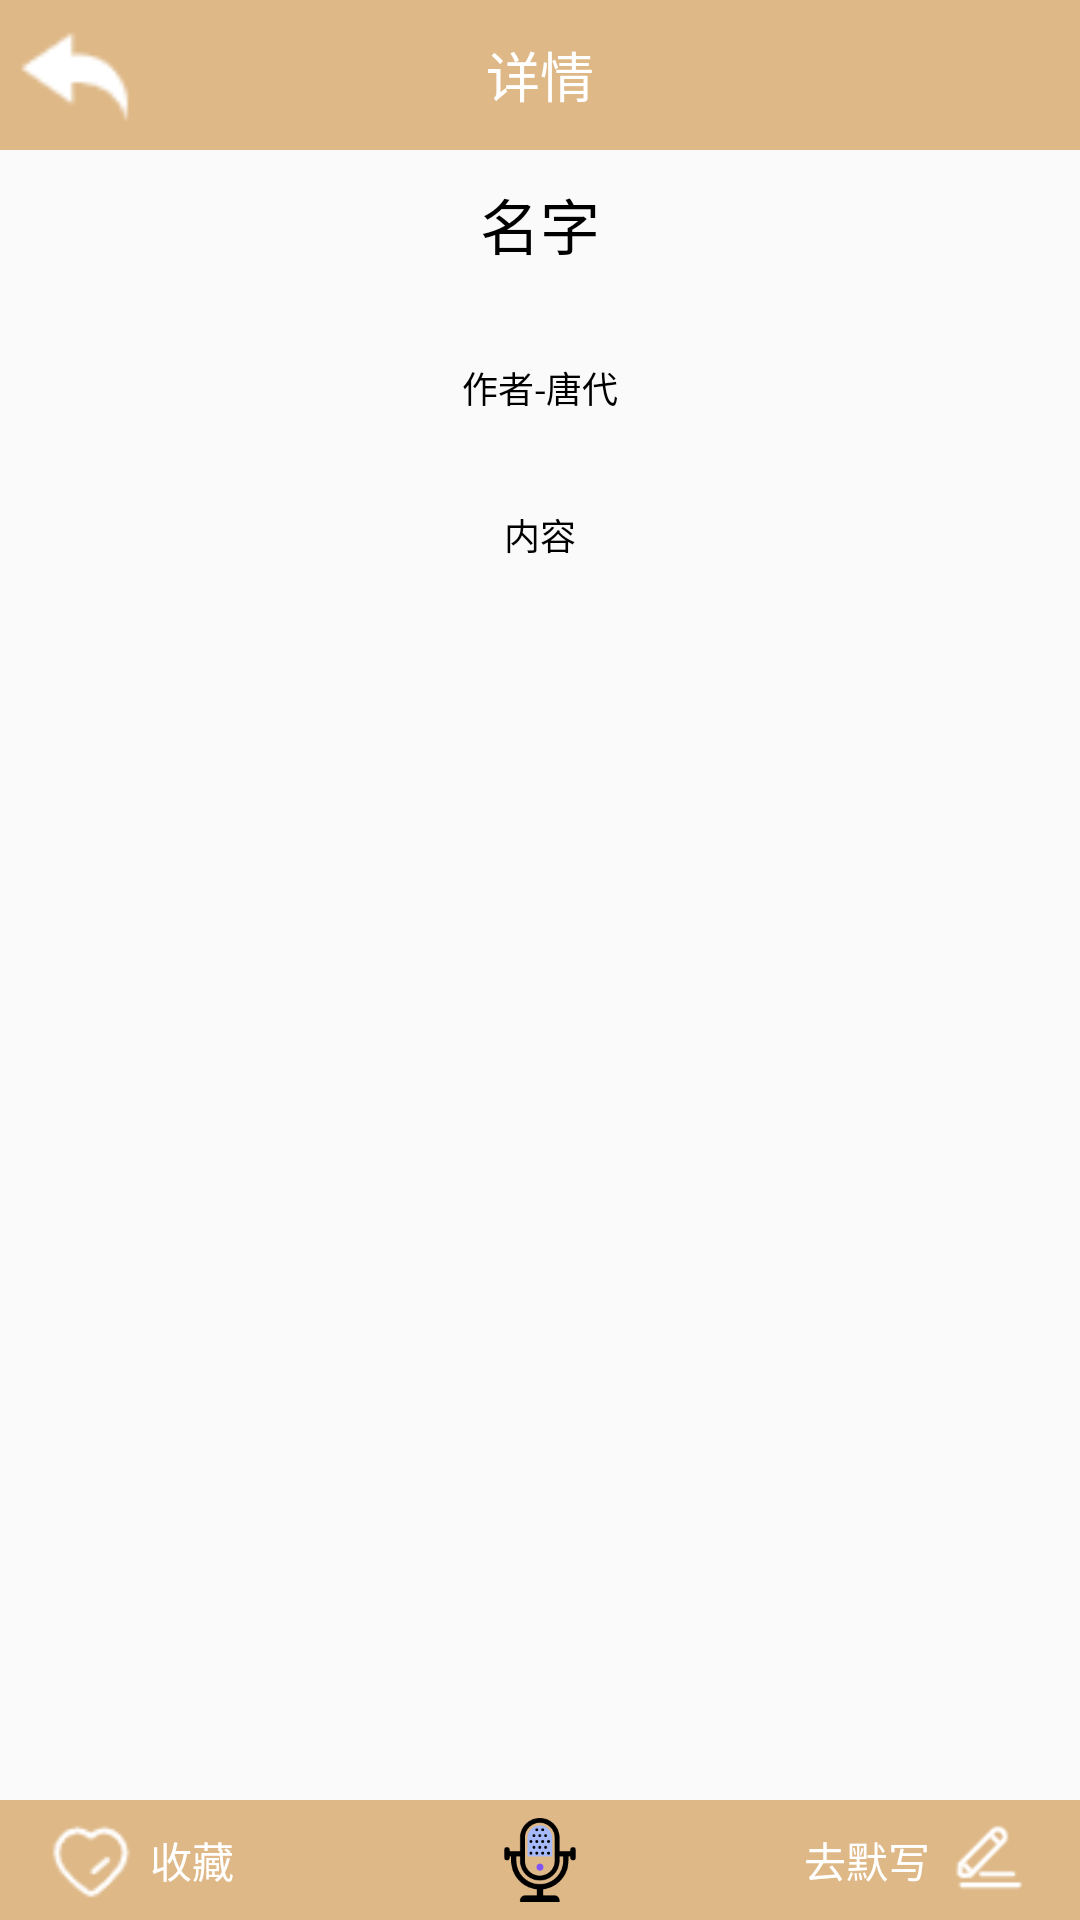

Icon click points for this 1080 × 1920 phone screenshot, format point (x, y):
back: point (75, 76)
